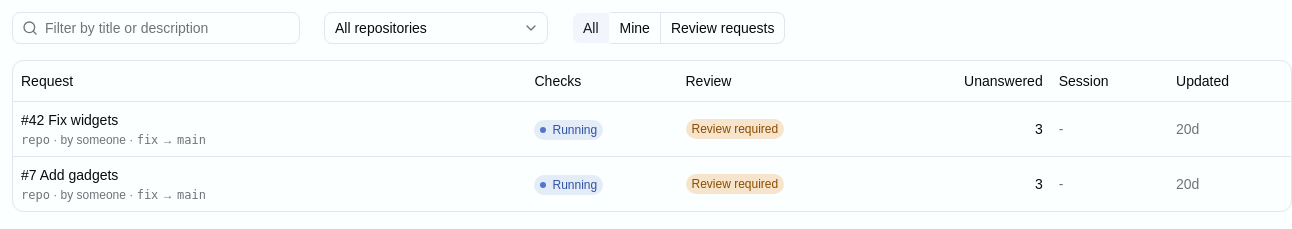
Test: narrows the rows to the words of their title or description
This screenshot has width=1292, height=229.
expect the link "#7 Add gadgets" is shown: met, box [21,164,118,184]
In the search field named "Filter by text": x=156, y=28 [12,12,300,44], type "empty list"
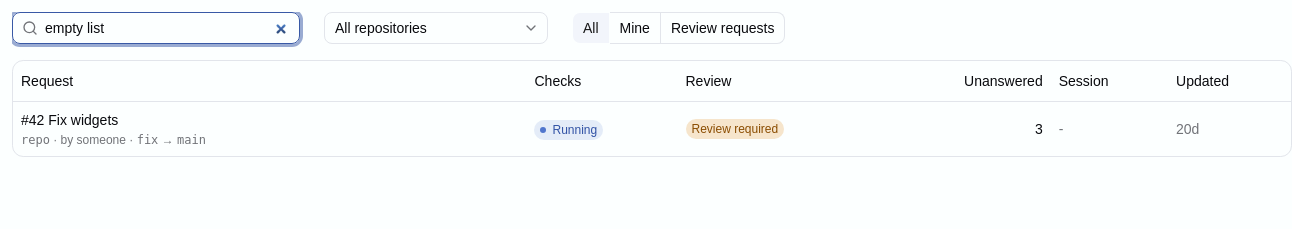
expect the link "#42 Fix widgets" is shown: met, box [21,110,118,130]
expect the link "#7 Add gadgets" is gone: met
